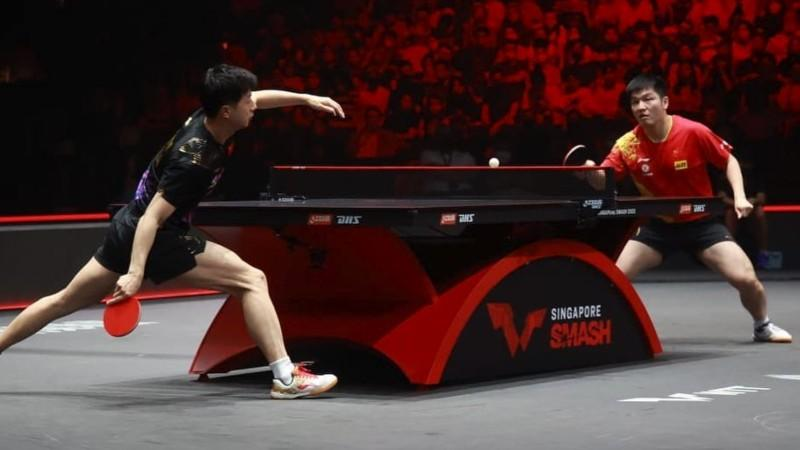ball_pingpong: (487, 155, 498, 169)
